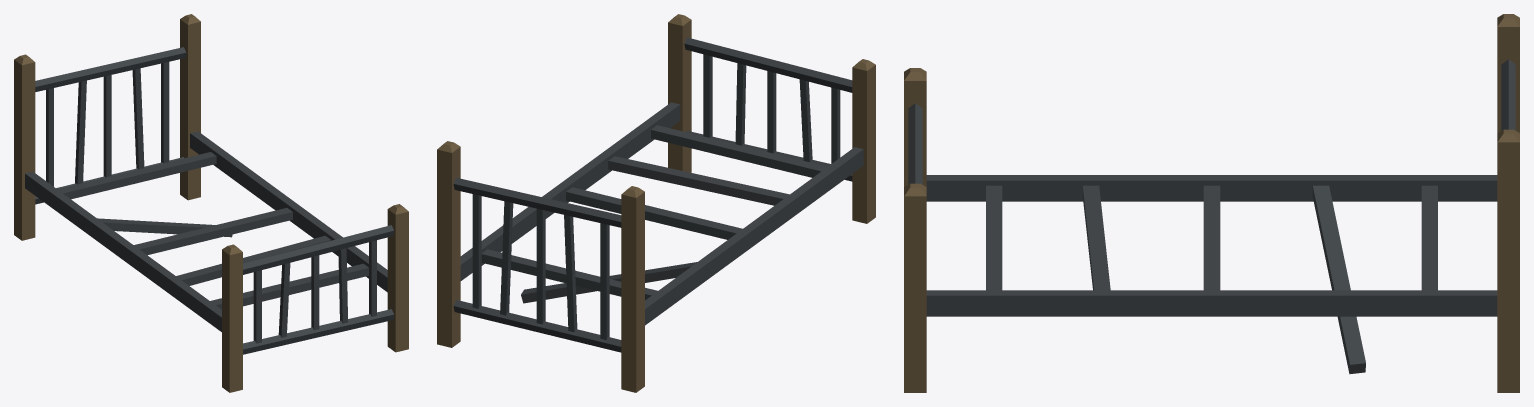
Rendered from SM_Prop_Bed_Frame_01.glb.
3 views of the same model, side by side, from view 1: azimuth 30°, elevation 25°; view 2: azimuth 150°, elevation 25°; view 3: azimuth 270°, elevation 25° (orthographic). The views are drawn at different scales.
Parts seen in each view (by area): view 1: SM_Prop_Bed_Frame_01; view 2: SM_Prop_Bed_Frame_01; view 3: SM_Prop_Bed_Frame_01.
Boxes of the visible parts, left/top/right/bottom form: SM_Prop_Bed_Frame_01: left=14, top=14, right=408, bottom=392; SM_Prop_Bed_Frame_01: left=437, top=14, right=875, bottom=392; SM_Prop_Bed_Frame_01: left=904, top=14, right=1519, bottom=392.
Bounding box in the file's own units: 0.9446 × 0.906 × 1.97.
Materials: 1 (1 with a texture image).
